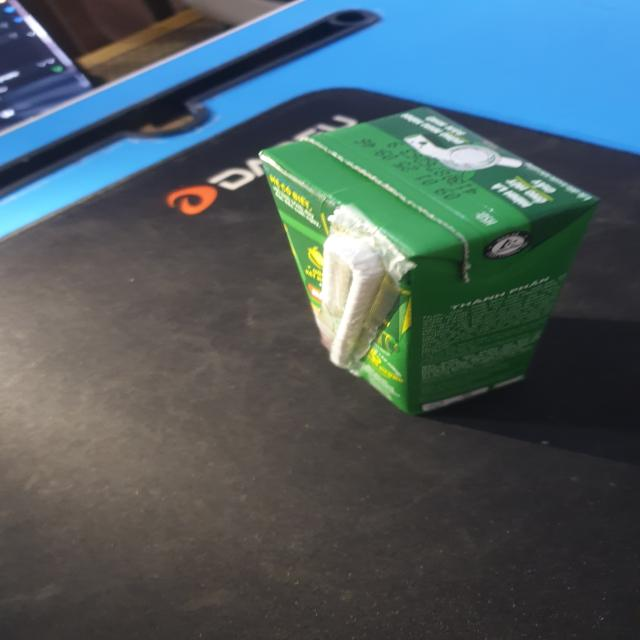Milo: (264, 116, 600, 411)
